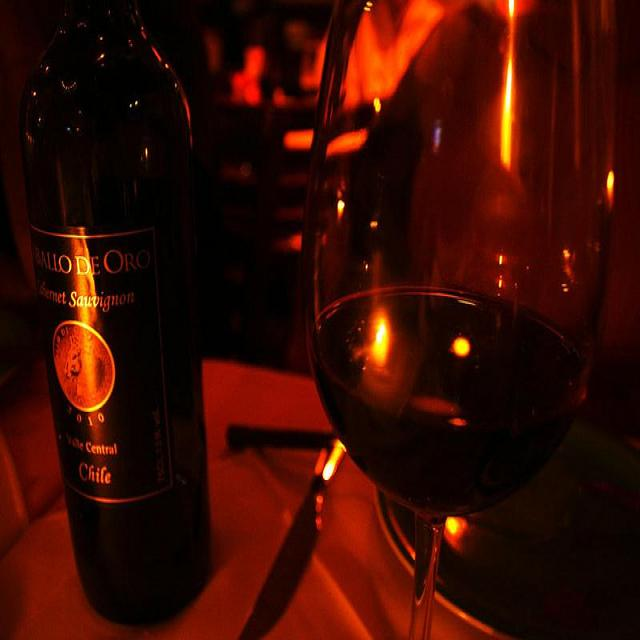Bottle: (8, 0, 218, 624)
Cup: (305, 2, 615, 636)
